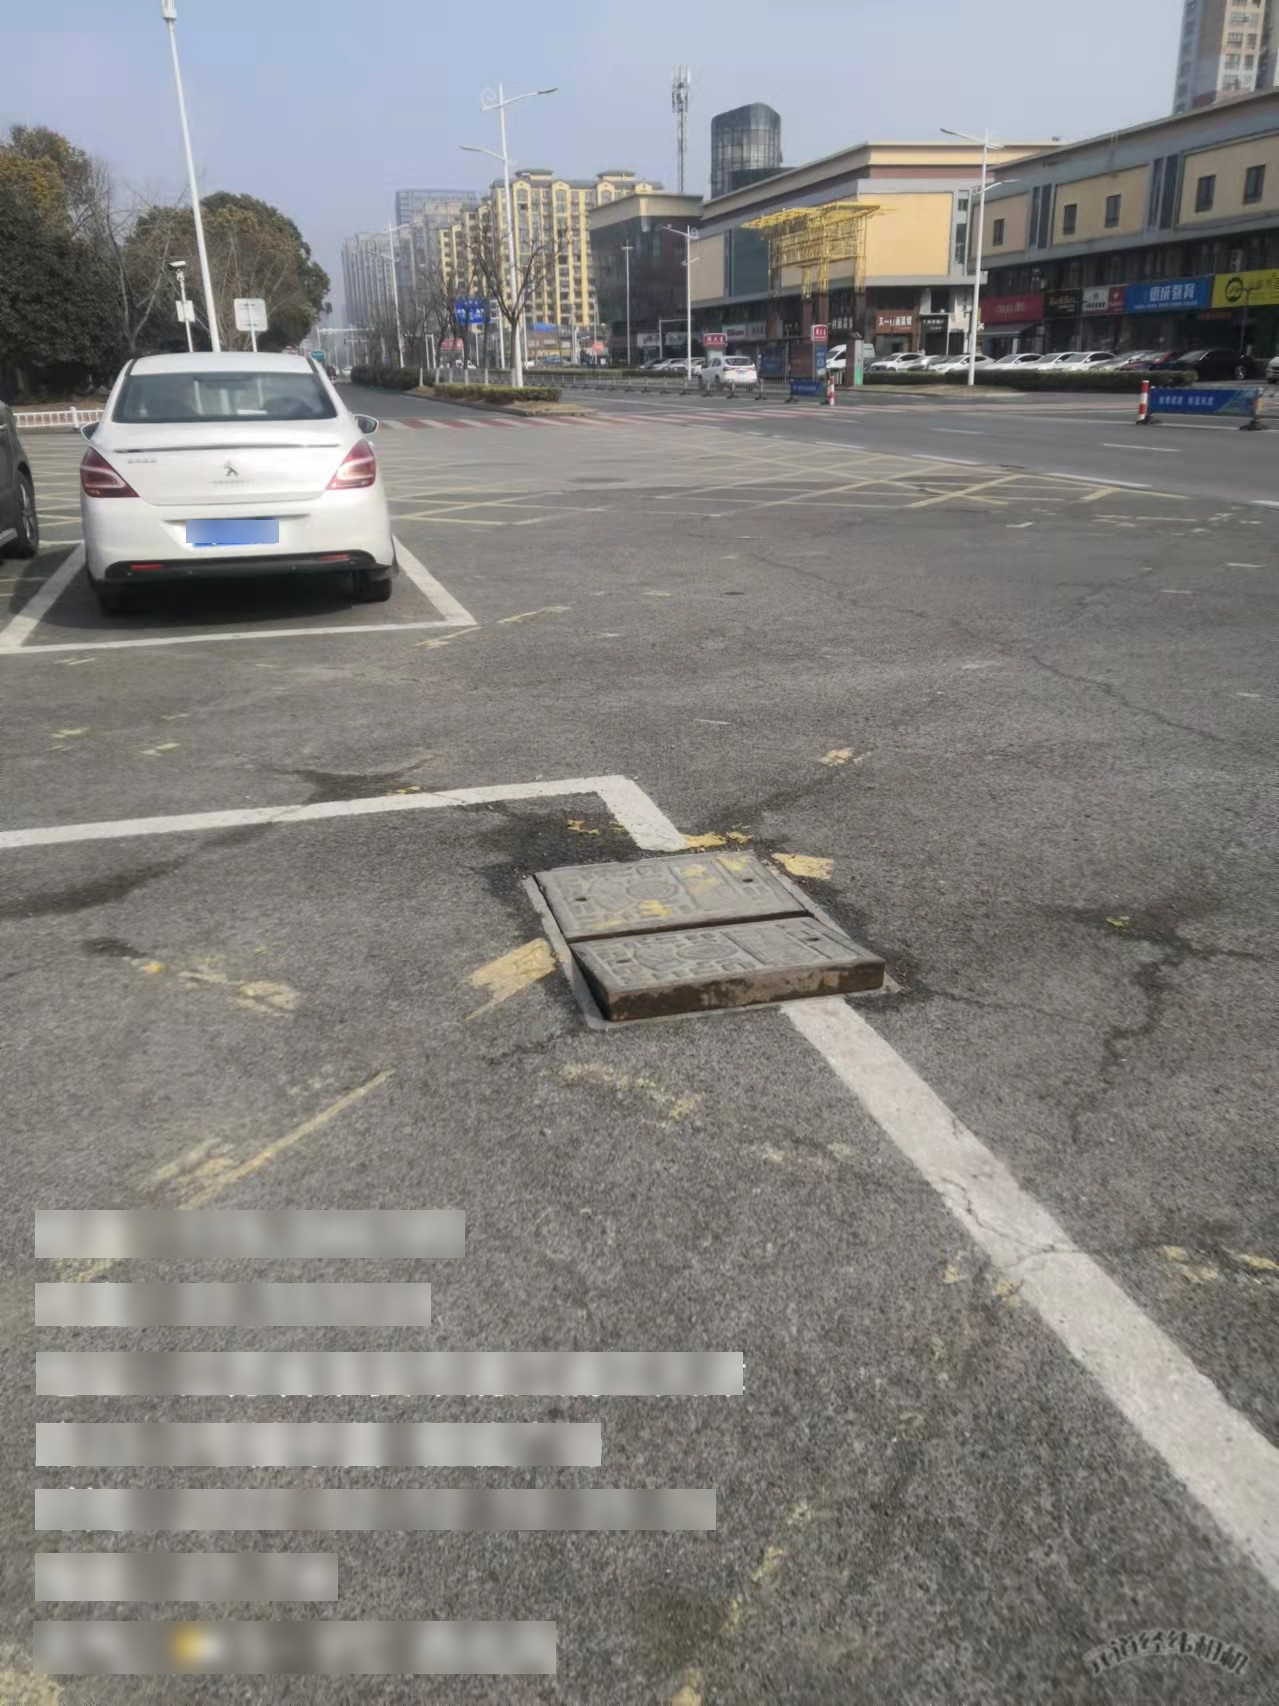uncovered: (525, 846, 901, 1037)
